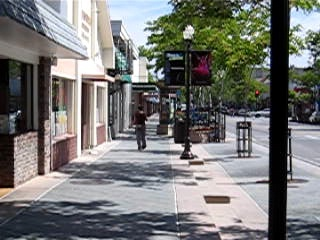person: (134, 104, 149, 151), (133, 104, 148, 151), (135, 104, 150, 151), (134, 103, 149, 150), (134, 105, 149, 152)
target_negative: (90, 129, 202, 226), (284, 130, 316, 210), (255, 220, 313, 236), (13, 152, 164, 157), (303, 123, 315, 179), (306, 154, 318, 190)
